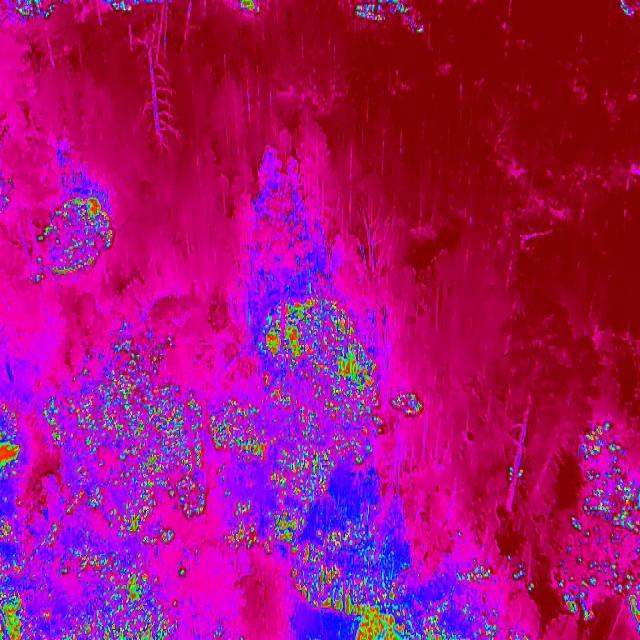fire: (69, 327, 200, 640), (270, 291, 386, 640), (560, 415, 640, 639), (0, 389, 70, 640), (386, 546, 535, 640), (210, 400, 270, 552), (33, 192, 117, 286), (351, 0, 428, 38), (5, 0, 64, 21), (391, 387, 424, 418), (103, 0, 145, 15), (234, 0, 266, 12)
